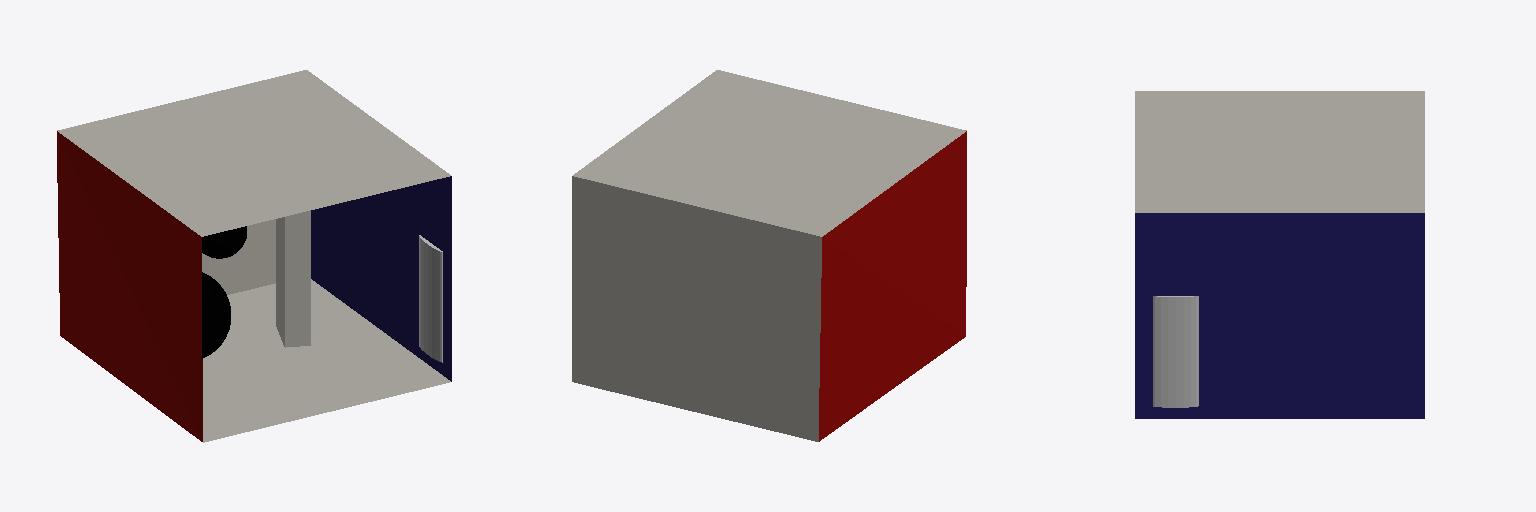
The picture shows the model from 3 angles: view 1: azimuth 30°, elevation 25°; view 2: azimuth 150°, elevation 25°; view 3: azimuth 270°, elevation 25°; orthographic projection.
Parts seen in each view (by area): view 1: ceiling, leftWall, floor, rightWall, Box001, backWall, Cylinder001, leftSphere, rightSphere; view 2: backWall, ceiling, leftWall; view 3: rightWall, ceiling, Cylinder001.
Part boxes in pixels (bbox=[...]): ceiling: bbox=[57, 70, 450, 236]; leftWall: bbox=[57, 131, 202, 441]; floor: bbox=[203, 279, 450, 442]; rightWall: bbox=[311, 176, 451, 381]; Box001: bbox=[276, 210, 310, 347]; backWall: bbox=[202, 219, 275, 294]; Cylinder001: bbox=[419, 235, 442, 362]; leftSphere: bbox=[202, 272, 230, 358]; rightSphere: bbox=[202, 226, 246, 258]; backWall: bbox=[572, 176, 821, 441]; ceiling: bbox=[573, 70, 966, 236]; leftWall: bbox=[819, 131, 966, 441]; rightWall: bbox=[1135, 213, 1424, 418]; ceiling: bbox=[1135, 91, 1424, 212]; Cylinder001: bbox=[1153, 296, 1198, 407].
Size of the model in its own units: 20.48 by 15.9 by 20.3.